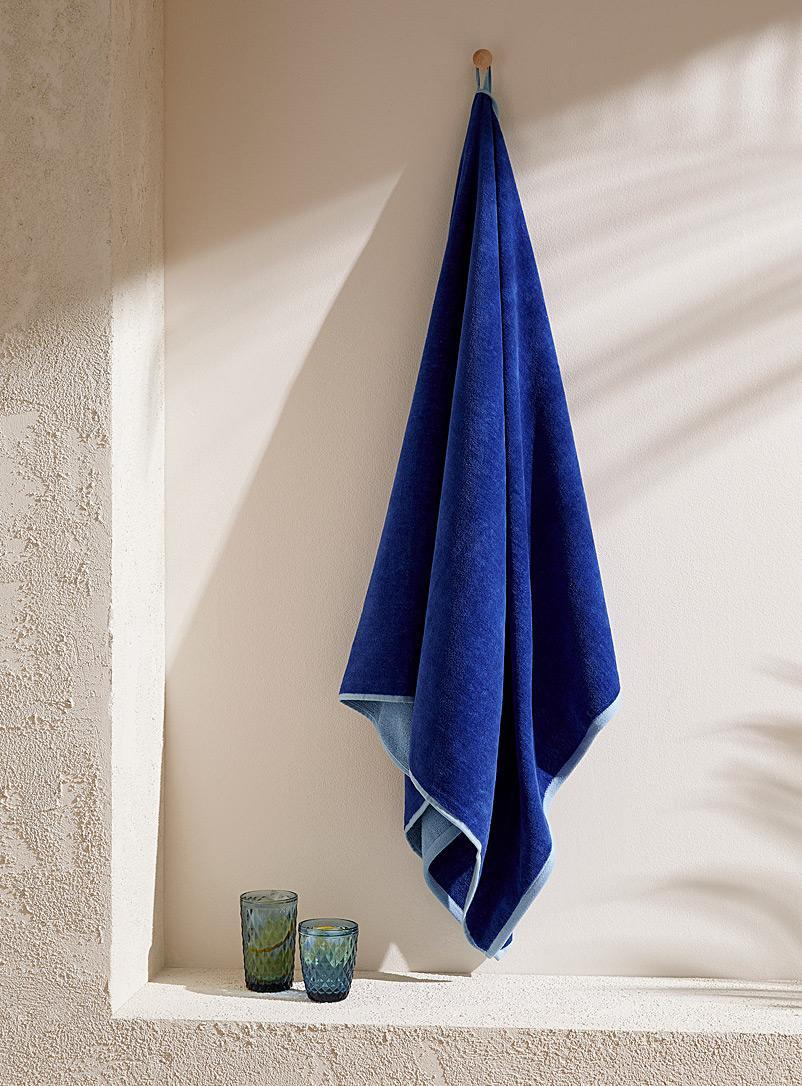towel: (330, 73, 615, 920)
